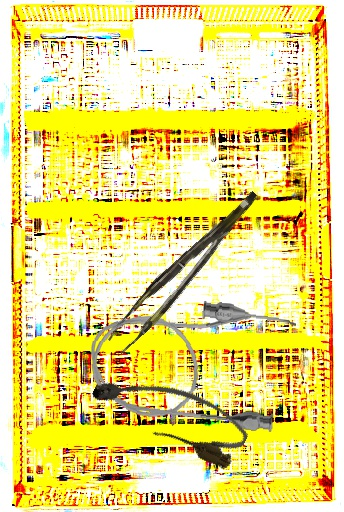Cannula: (84, 291, 298, 434), (86, 355, 255, 473)
Tissue Forceps: (98, 190, 276, 355)
